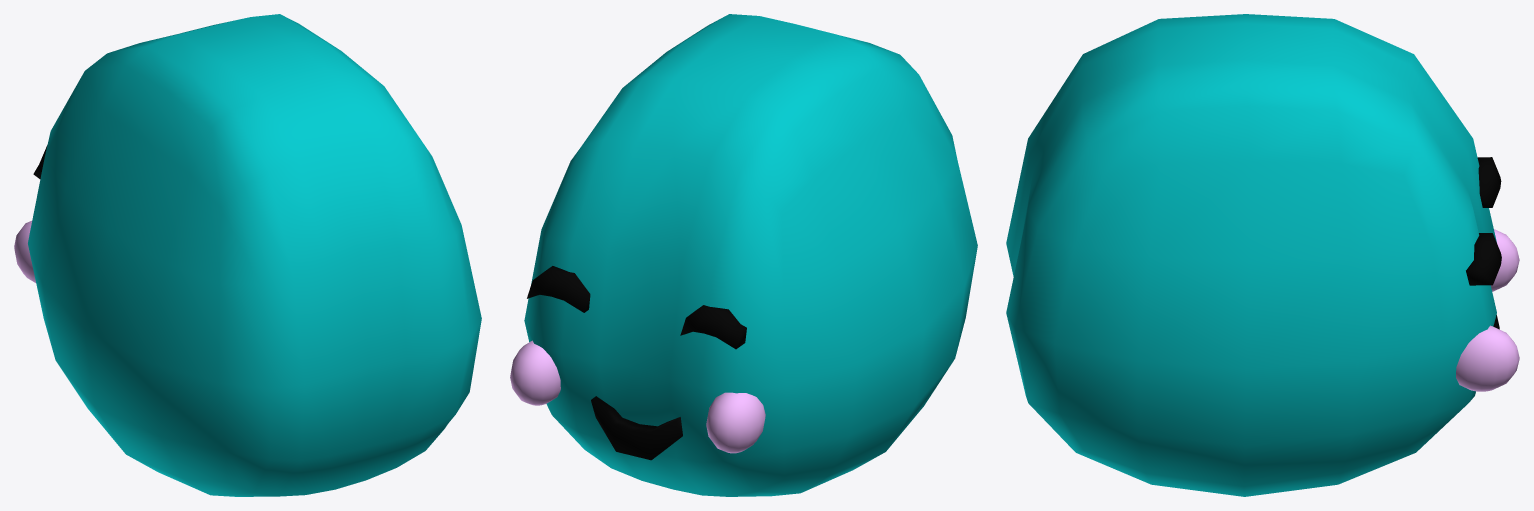
Rendered from blob.fbx.
3 views of the same model, side by side, from view 1: azimuth 30°, elevation 25°; view 2: azimuth 150°, elevation 25°; view 3: azimuth 270°, elevation 25° (orthographic). The views are drawn at different scales.
Visible parts, largest first — view 1: head.002, Sphere.003; view 2: head.002, Sphere.003, mouth.002, Sphere.002, left eye.001, right eye.001; view 3: head.002, Sphere.002, right eye.001, Sphere.003, left eye.001.
Part boxes in pixels (x1,y1,x2,y2): head.002: (28,14,481,496); Sphere.003: (14,221,35,282); head.002: (524,14,977,496); Sphere.003: (706,392,765,453); mouth.002: (591,396,682,460); Sphere.002: (510,340,560,405); left eye.001: (680,305,746,349); right eye.001: (527,266,590,312); head.002: (1006,14,1496,496); Sphere.002: (1456,325,1519,391); right eye.001: (1466,233,1501,285); Sphere.003: (1491,229,1519,291); left eye.001: (1477,157,1501,207).
Size of the model in its own units: 2.29 by 2.61 by 2.89.
